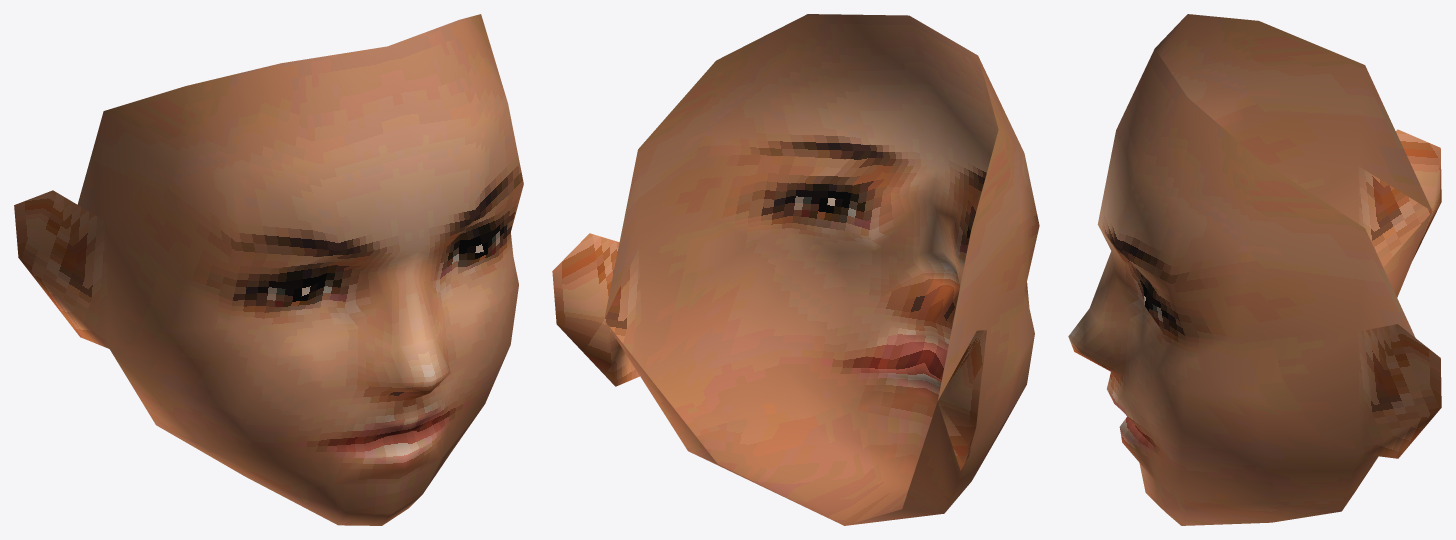
3 views of the same model, side by side, from view 1: azimuth 30°, elevation 25°; view 2: azimuth 150°, elevation 25°; view 3: azimuth 270°, elevation 25° (orthographic). The views are drawn at different scales.
Visible parts, largest first — view 1: editpl_f-0000-1828, editpl_f-0000-1827; view 2: editpl_f-0000-1828, editpl_f-0000-1827; view 3: editpl_f-0000-1828, editpl_f-0000-1827.
Boxes of the visible parts, x1=… form: editpl_f-0000-1828: x1=14, y1=14, x2=523, y2=411; editpl_f-0000-1827: x1=104, y1=221, x2=510, y2=525; editpl_f-0000-1828: x1=552, y1=14, x2=1039, y2=470; editpl_f-0000-1827: x1=604, y1=248, x2=1034, y2=525; editpl_f-0000-1828: x1=1068, y1=14, x2=1441, y2=458; editpl_f-0000-1827: x1=1068, y1=166, x2=1432, y2=525.
Bounding box in the file's own units: 19.4 × 20.03 × 14.57.
